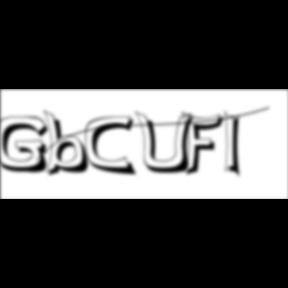C: (84, 115, 140, 178)
F: (181, 110, 229, 178)
G: (1, 116, 55, 176)
U: (135, 110, 200, 176)
b: (44, 109, 96, 179)
l: (224, 108, 248, 182)
